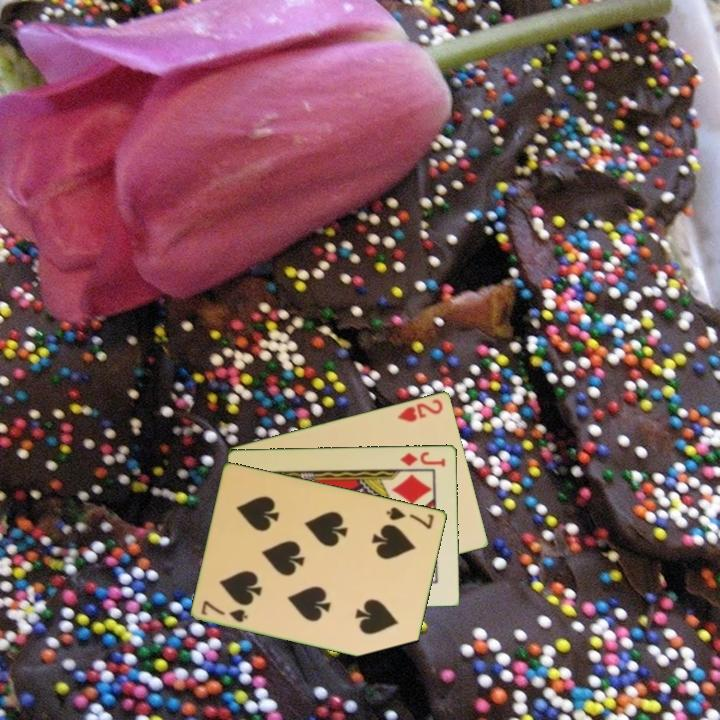2h: (394, 395, 446, 424)
7s: (383, 503, 437, 532), (198, 597, 251, 625)
Jd: (398, 448, 449, 469)
